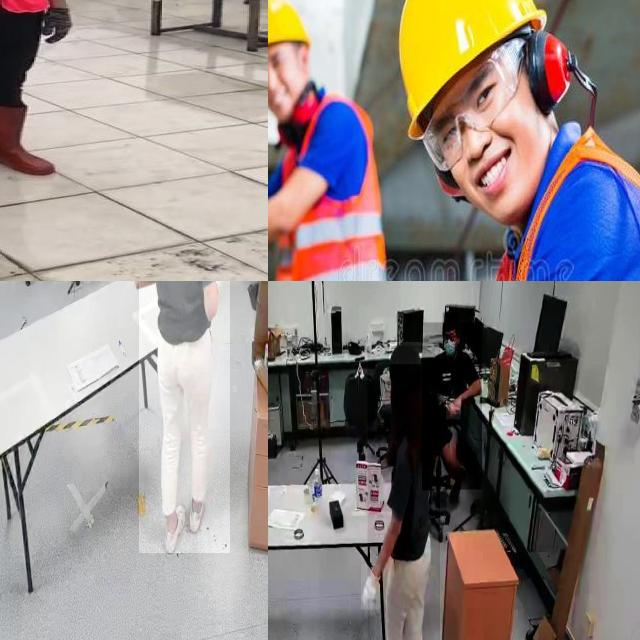Ear-protection: (524, 21, 579, 114), (277, 84, 323, 139)
boots: (0, 100, 69, 178)
face_mask: (442, 331, 458, 357)
glasses: (411, 41, 532, 162)
hand_glove: (361, 564, 381, 610)
hand_noglove: (446, 399, 461, 420), (450, 395, 462, 415)
head_helmet: (400, 0, 548, 138), (268, 0, 312, 64)
head_nohelmet: (389, 342, 421, 365), (443, 312, 459, 330)
person: (382, 0, 640, 281), (268, 0, 420, 281), (139, 281, 230, 553), (367, 345, 440, 640), (0, 0, 88, 189), (422, 322, 482, 490)
shoes: (163, 500, 187, 560), (184, 485, 208, 537)
vest: (268, 91, 395, 281), (492, 127, 640, 281)
